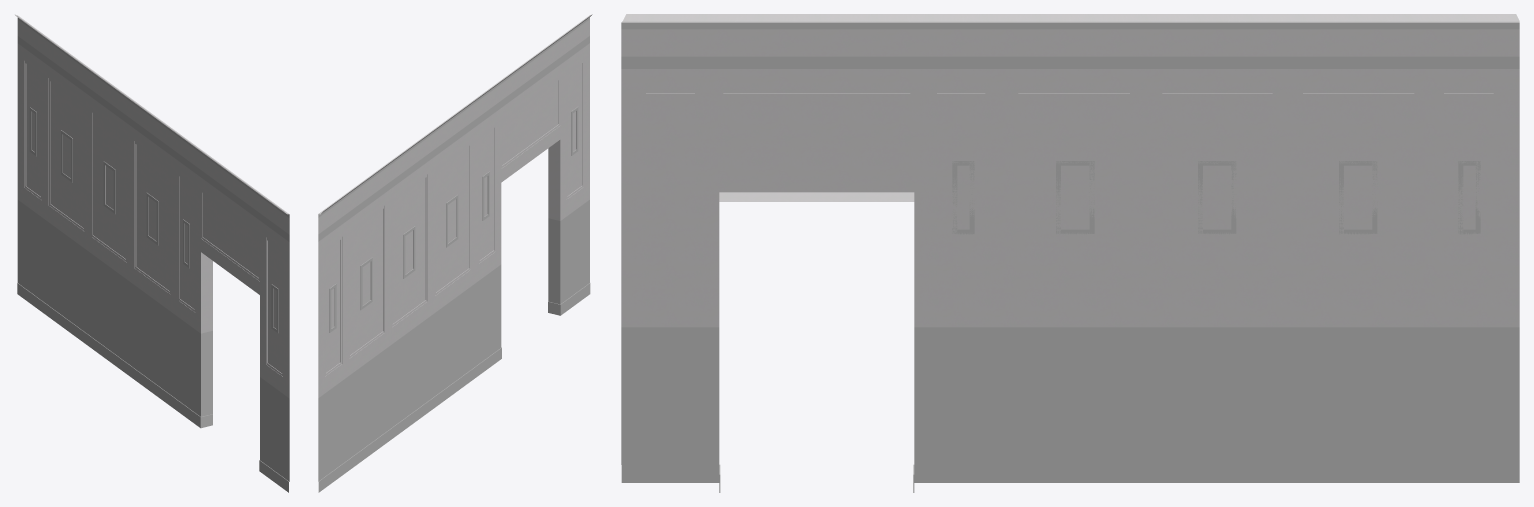
The model's file is SM_Wall_Tiled_33.fbx.
3 views of the same model, side by side, from view 1: azimuth 30°, elevation 25°; view 2: azimuth 150°, elevation 25°; view 3: azimuth 270°, elevation 25° (orthographic). The views are drawn at different scales.
Visible parts, largest first — view 1: SM_Wall_Tiled_33; view 2: SM_Wall_Tiled_33; view 3: SM_Wall_Tiled_33.
Part boxes in pixels (bbox=[...]): SM_Wall_Tiled_33: bbox=[15, 14, 289, 492]; SM_Wall_Tiled_33: bbox=[318, 14, 592, 492]; SM_Wall_Tiled_33: bbox=[621, 14, 1519, 492].
Size of the model in its own units: 39.16 by 1128 by 645.
